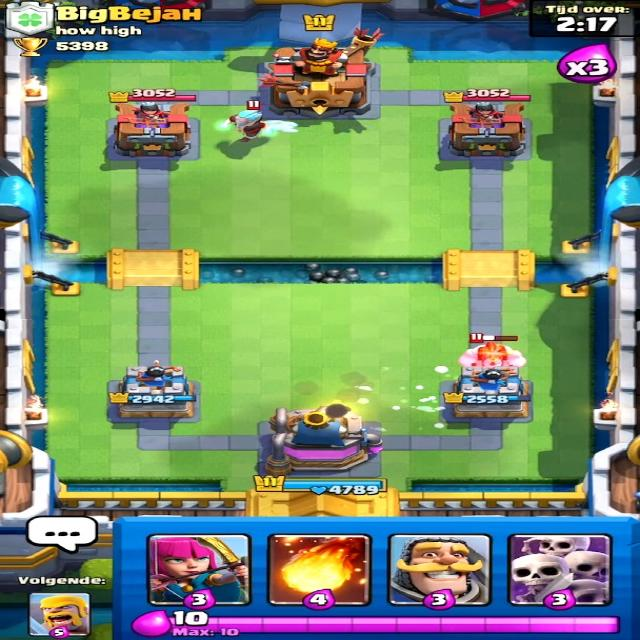Enemy_Ice_Golem_Troop: (453, 338, 533, 371)
Enemy_Ice_Wizard_Troop: (210, 104, 280, 144)
Fireball_Card: (270, 534, 370, 609)
